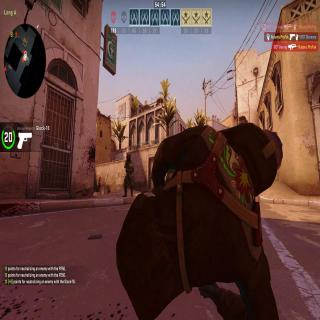CT-Body: (123, 152, 133, 191)
CT-Head: (126, 152, 130, 160)
